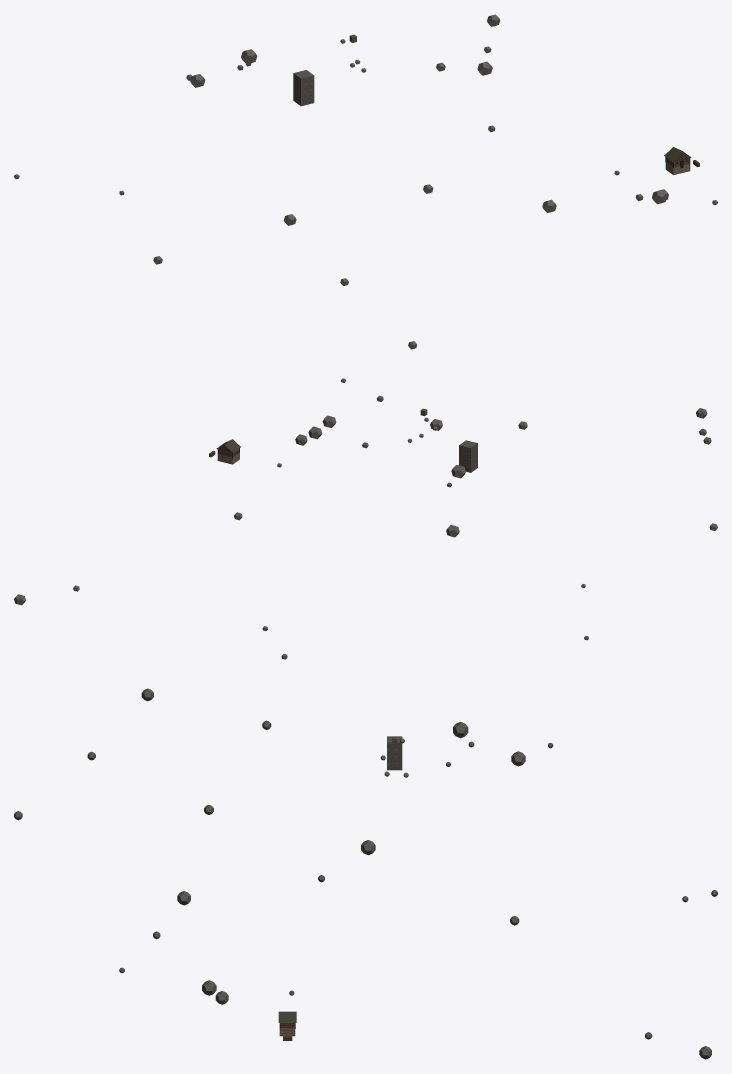
The model's file is montana.glb.
The picture shows the model from 3 angles, top to bottom: view 1: azimuth 30°, elevation 25°; view 2: azimuth 150°, elevation 25°; view 3: azimuth 270°, elevation 25°; orthographic projection. The views are drawn at different scales.
Parts seen in each view (by area): view 1: montana-0, montana-1; view 2: montana-0, montana-1; view 3: montana-0, montana-1.
Part boxes in pixels (x1=…): montana-0: x1=14, y1=14, x2=717, y2=349; montana-1: x1=293, y1=34, x2=690, y2=175; montana-0: x1=14, y1=378, x2=717, y2=659; montana-1: x1=217, y1=408, x2=477, y2=472; montana-0: x1=14, y1=688, x2=717, y2=1059; montana-1: x1=279, y1=736, x2=402, y2=1036.
Bounding box in the file's own units: 171 × 50.86 × 184.
2 materials, 1 textured.
